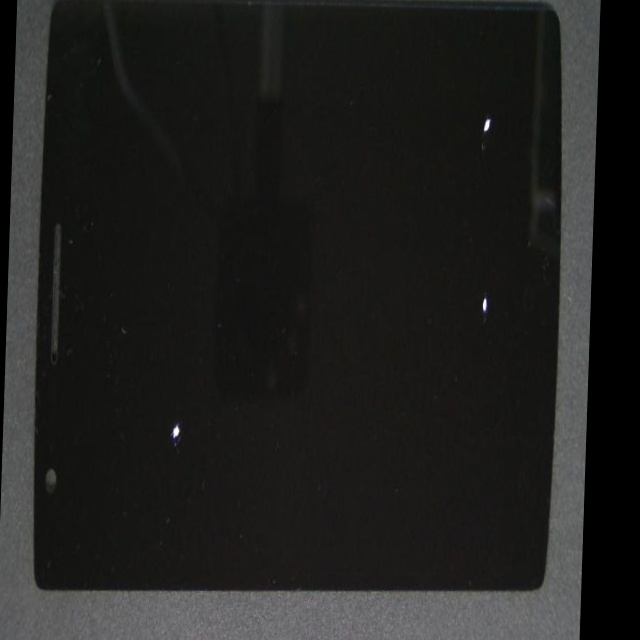stain: (249, 89, 597, 452), (101, 167, 286, 625), (262, 0, 601, 184)
